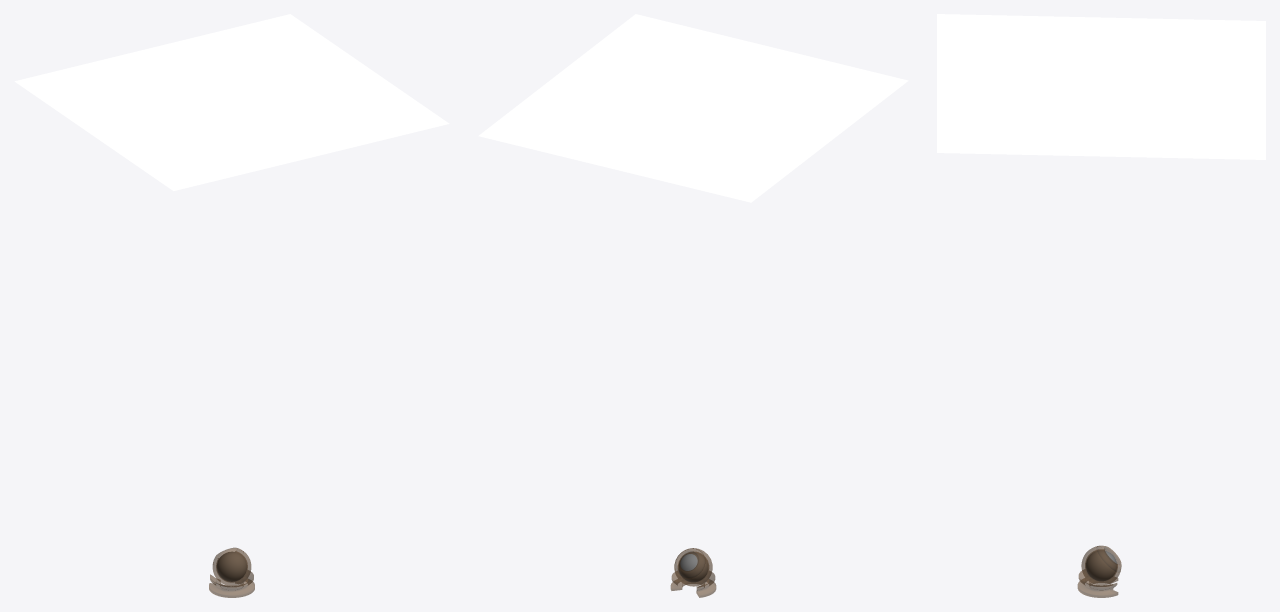
File: matsphere.glb
3 views of the same model, side by side, from view 1: azimuth 30°, elevation 25°; view 2: azimuth 150°, elevation 25°; view 3: azimuth 270°, elevation 25° (orthographic). The views are drawn at different scales.
Parts seen in each view (by area): view 1: testObj; view 2: testObj; view 3: testObj.
Boxes of the visible parts, bbox=[...] form: testObj: bbox=[14, 14, 449, 597]; testObj: bbox=[478, 14, 908, 597]; testObj: bbox=[937, 14, 1265, 597].
Size of the model in its own units: 7.5 by 12.69 by 7.5.
